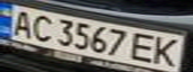3: (51, 17, 78, 47)
5: (72, 20, 93, 52)
6: (87, 25, 112, 55)
7: (106, 26, 130, 59)
A: (3, 8, 39, 38)
C: (24, 12, 57, 43)
E: (127, 30, 160, 63)
K: (148, 35, 187, 69)
